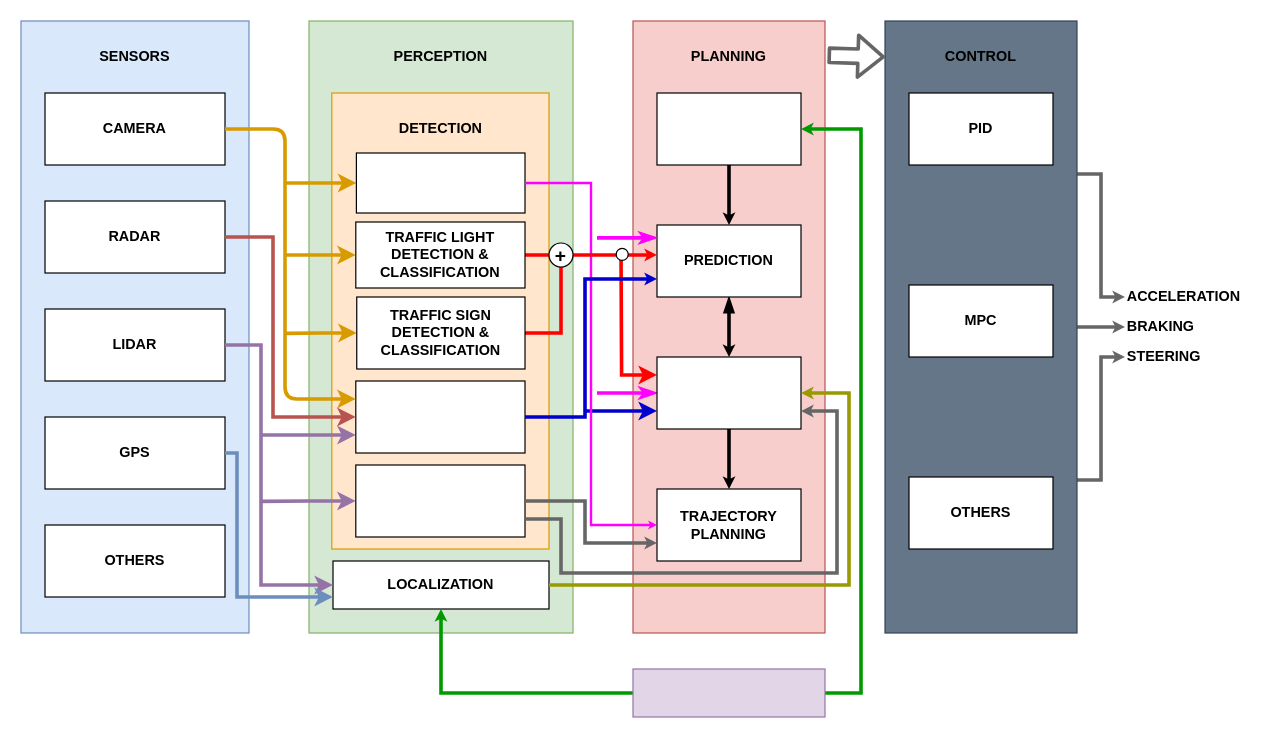
The diagram is 1261 pixels wide and 738 high, and some of its shapes have lost their labels. The shapes that lost their labels are listed below. From the top down, each one's box as (x1, y1, x2, y2) in pixels, then its label:
(656, 92, 801, 165): ROUTE PLANNING
(355, 152, 525, 213): LANE DETECTION
(656, 356, 801, 429): BEHAVIOR PLANNING
(355, 380, 525, 453): OBJECT DETECTION & TRACKING
(355, 464, 525, 537): FREE SPACE DETECTION
(632, 668, 825, 717): MAP
